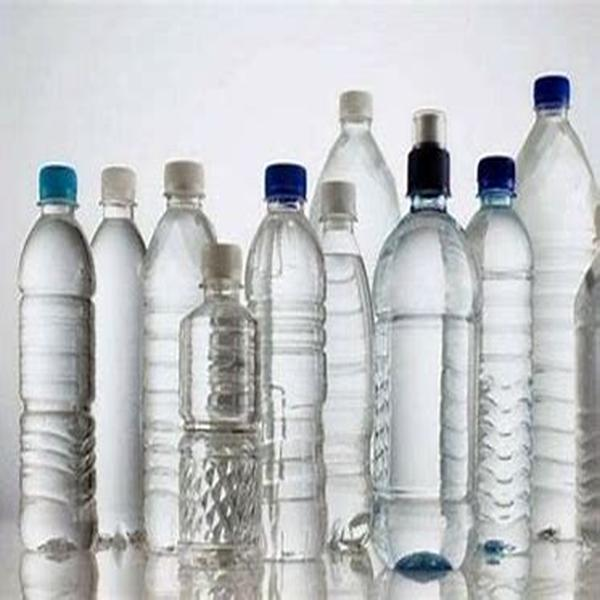tutuma: (363, 91, 482, 589), (12, 152, 96, 566), (166, 240, 258, 563)
